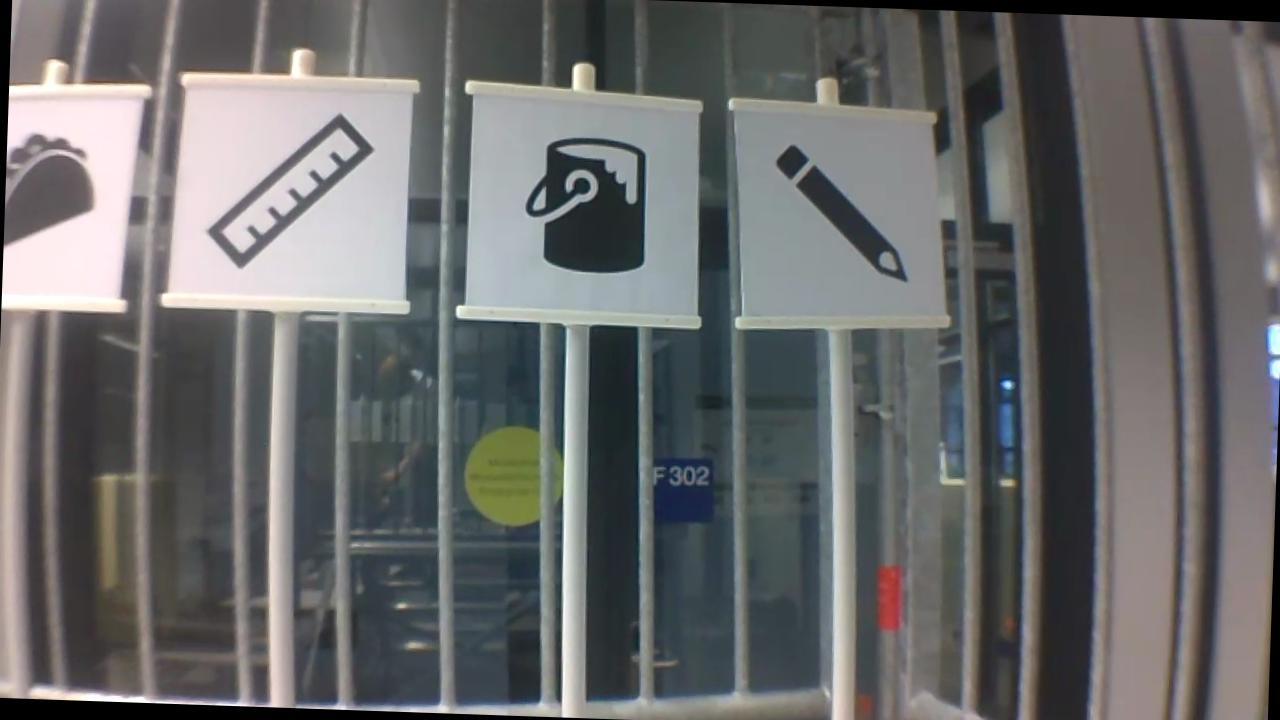bucket: (517, 130, 653, 278)
pencil: (757, 139, 918, 290)
ruler: (194, 103, 382, 278)
taco: (5, 125, 104, 259)
